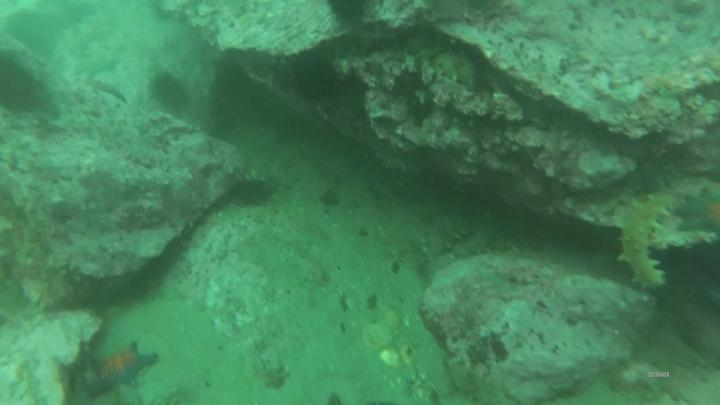echinus: (1, 49, 49, 119), (146, 69, 195, 116), (232, 175, 280, 207), (326, 1, 376, 30)
holothurian: (400, 26, 491, 98), (615, 193, 674, 295), (444, 216, 505, 261), (82, 77, 129, 107)
starfish: (82, 336, 163, 402), (669, 185, 720, 238)
